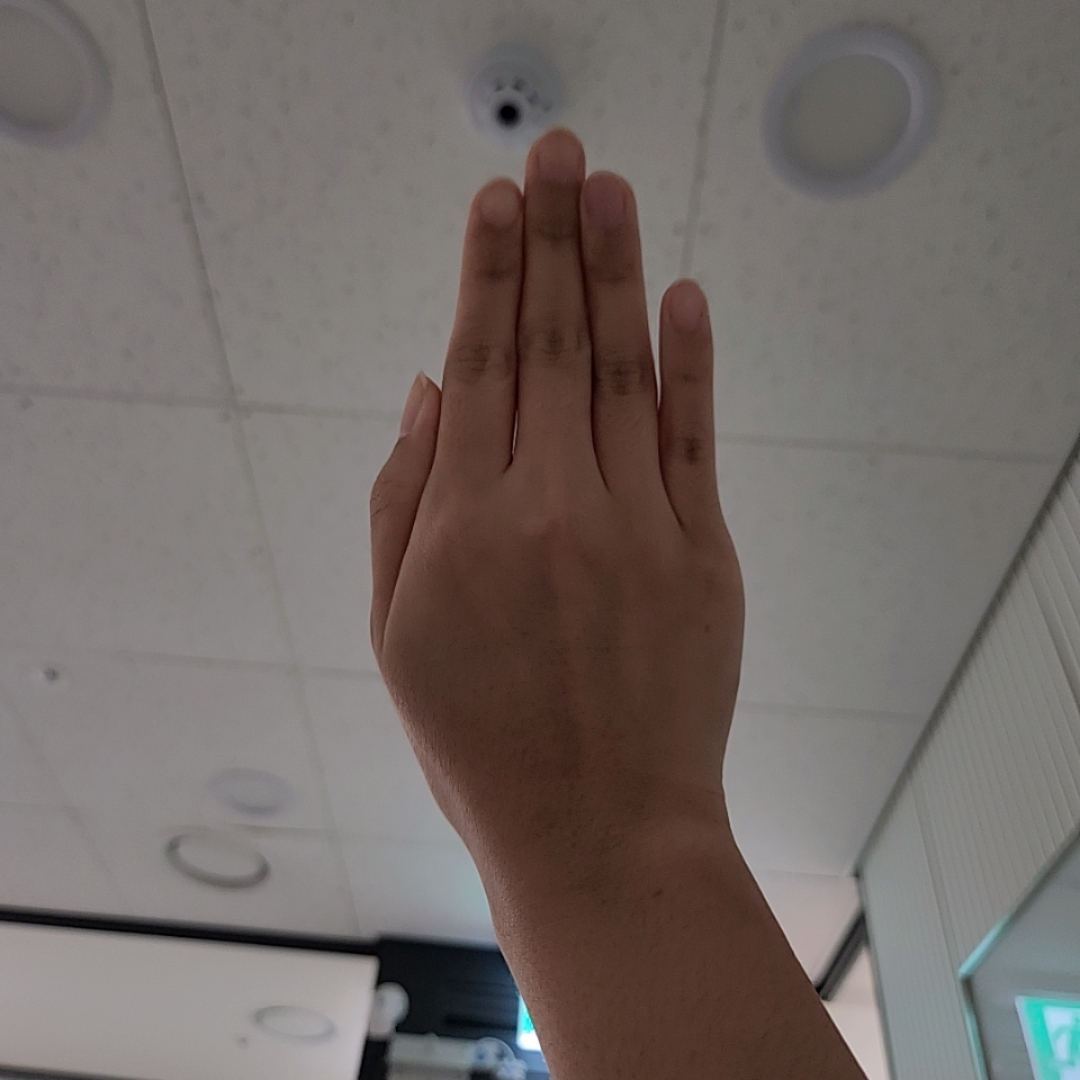me: (369, 128, 748, 839)
